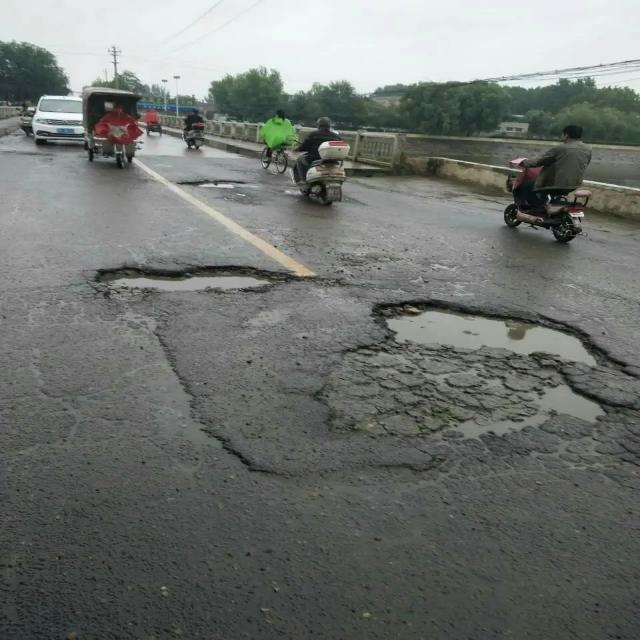Pothole: (364, 300, 614, 466), (91, 264, 295, 296), (180, 178, 255, 192)
